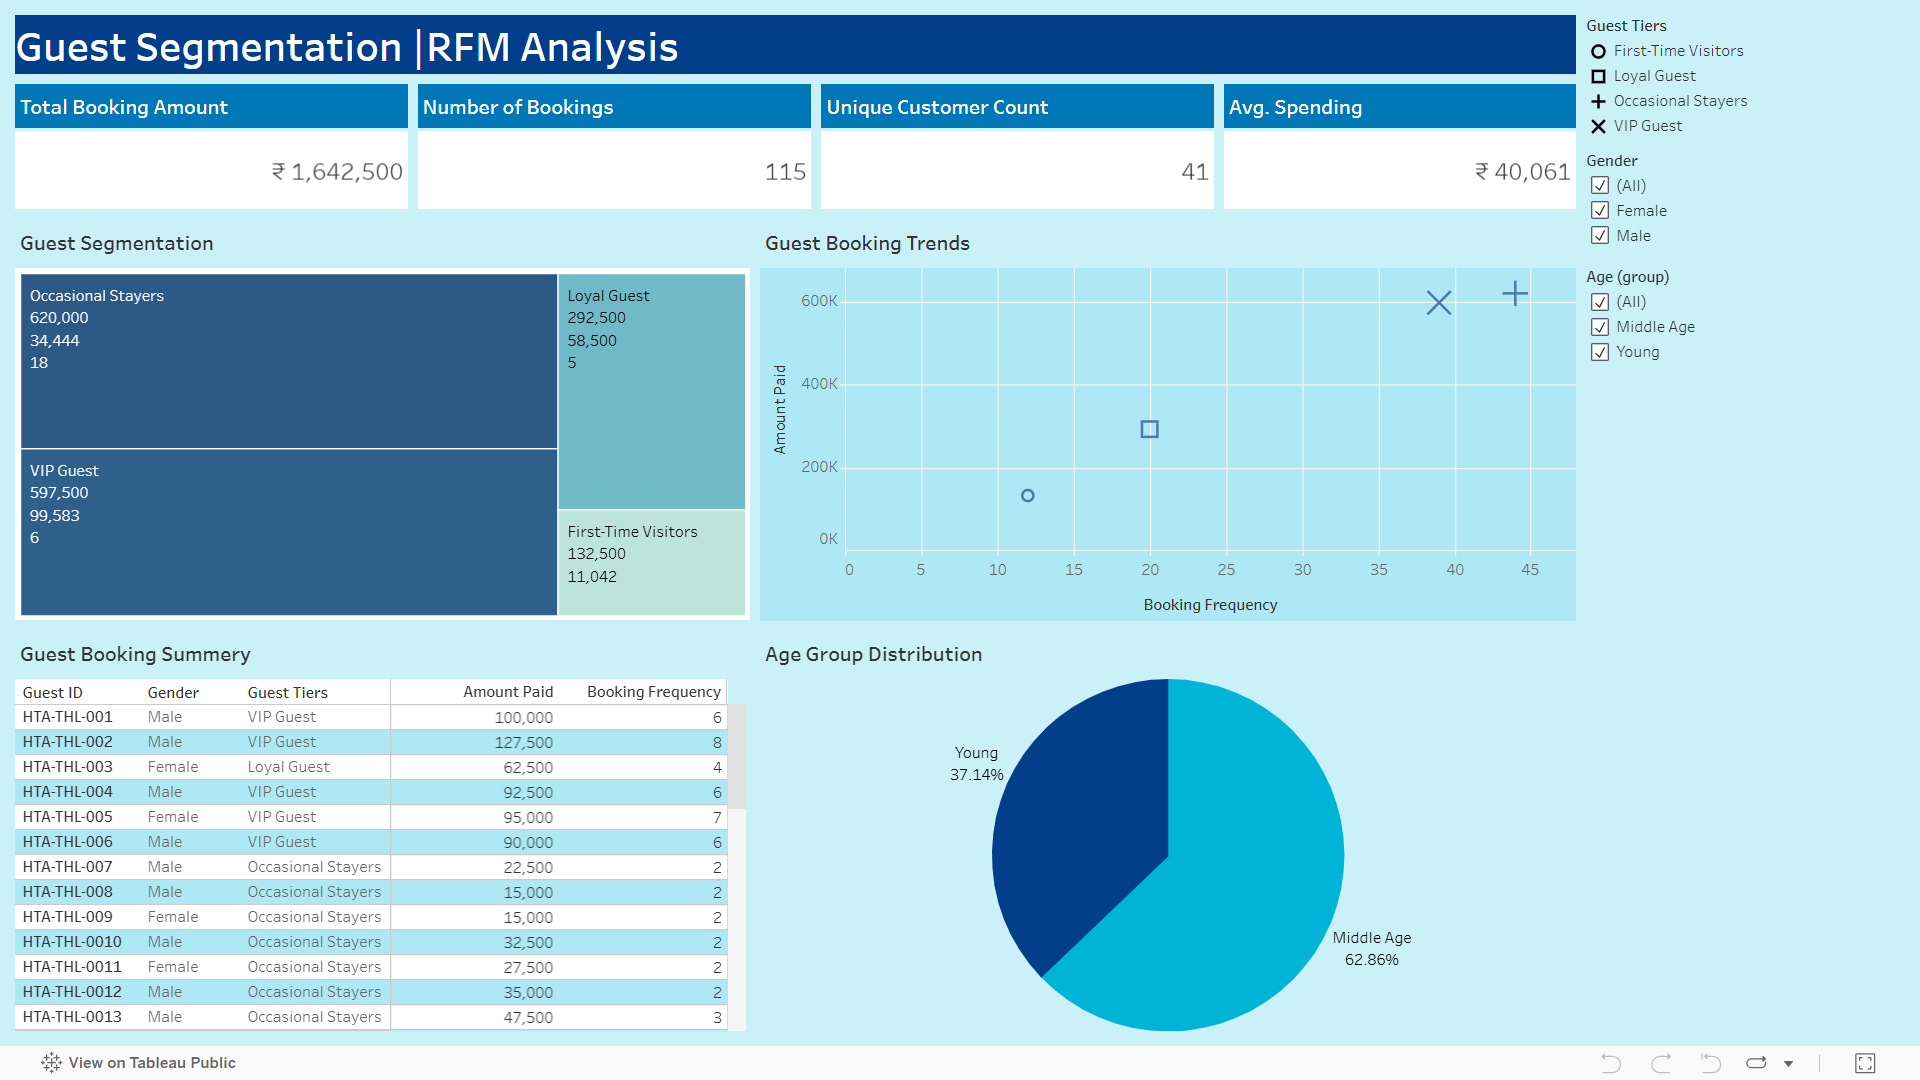

What the dashboard file says about the page in this screenshot:
{"tool":"tableau","page":{"name":"Dashboard 1","canvas":[1000,1000],"units":"permille","ordinal":0},"visuals":[{"type":"text","box":[4.8,10,818.9,66.2]},{"type":"legend","title":"Scatter Plot","param":"[federated.1bezld400k7zi91c5bcqm0ke2p20].[none:Guest Tiers:nk]","box":[823.8,10,171.4,142.3]},{"type":"worksheet","title":"Total Booking Amount","mark":"Automatic","box":[4.8,76.2,210,129.8]},{"type":"worksheet","title":"Number of Bookings","mark":"Automatic","box":[214.8,76.2,210,129.8]},{"type":"worksheet","title":"Unique Guest","mark":"Automatic","box":[424.9,76.2,210,129.8]},{"type":"worksheet","title":"Average Spending","mark":"Automatic","box":[634.9,76.2,188.9,129.8]},{"type":"filter","title":"Guest Table","param":"[federated.1bezld400k7zi91c5bcqm0ke2p20].[none:Gender:nk]","box":[823.8,152.3,171.4,131.1]},{"type":"worksheet","title":"Tree Map","mark":"Automatic","box":[4.8,206,388.6,392]},{"type":"worksheet","title":"Scatter Plot","mark":"Automatic","rows":["Amount Paid"],"cols":["Booking Frequency"],"box":[393.5,206,430.3,392]},{"type":"filter","title":"Pie Chart","param":"[federated.1bezld400k7zi91c5bcqm0ke2p20].[Age (group)]","box":[823.8,283.4,171.4,131.1]},{"type":"worksheet","title":"Guest Table","mark":"Automatic","rows":["Guest ID","Gender","Guest Tiers"],"box":[4.8,598,388.6,392]},{"type":"worksheet","title":"Pie Chart","mark":"Pie","box":[393.5,598,430.3,392]}]}

Visuals, with their boxes on the dashboard's canvas, which has no fixed pixel size, in thousandths of its width and height (x1, y1, x2, y2). These are canvas units, not pixel positions in the 1920x1080 screenshot, which may show the page scaled, cropped or inside an application window:
text: [5,10,824,76]
"Scatter Plot" legend: [824,10,995,152]
"Total Booking Amount" worksheet: [5,76,215,206]
"Number of Bookings" worksheet: [215,76,425,206]
"Unique Guest" worksheet: [425,76,635,206]
"Average Spending" worksheet: [635,76,824,206]
"Guest Table" filter: [824,152,995,283]
"Tree Map" worksheet: [5,206,393,598]
"Scatter Plot" worksheet: [394,206,824,598]
"Pie Chart" filter: [824,283,995,414]
"Guest Table" worksheet: [5,598,393,990]
"Pie Chart" worksheet (Pie marks): [394,598,824,990]
